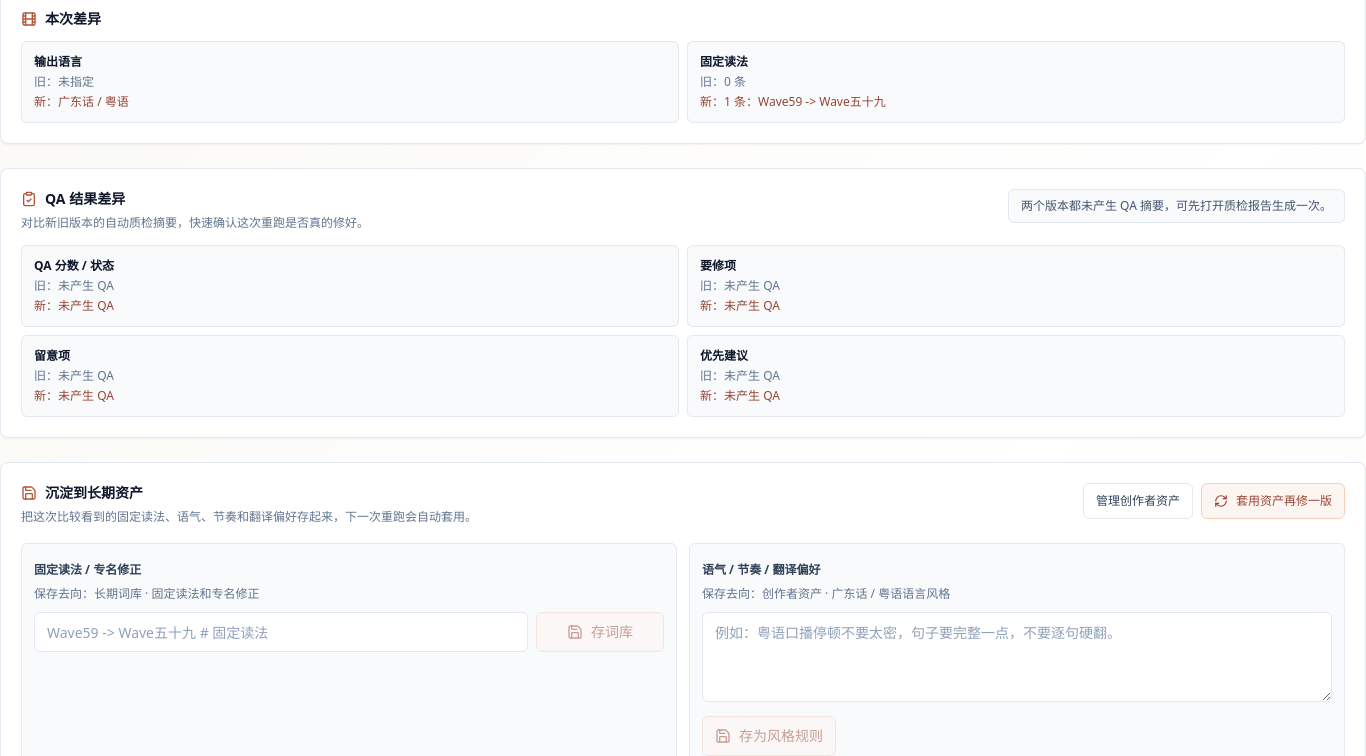
JobCompareClient asset rows › previews and confirms the style note saved from compare
Type "粤语口播停顿拉开一点，不要逐句硬翻。" into the text box labelled "语气 / 节奏 / 翻译偏好".
click(1017, 657); type("粤语口播停顿拉开一点，不要逐句硬翻。")  # box [702, 612, 1332, 702]
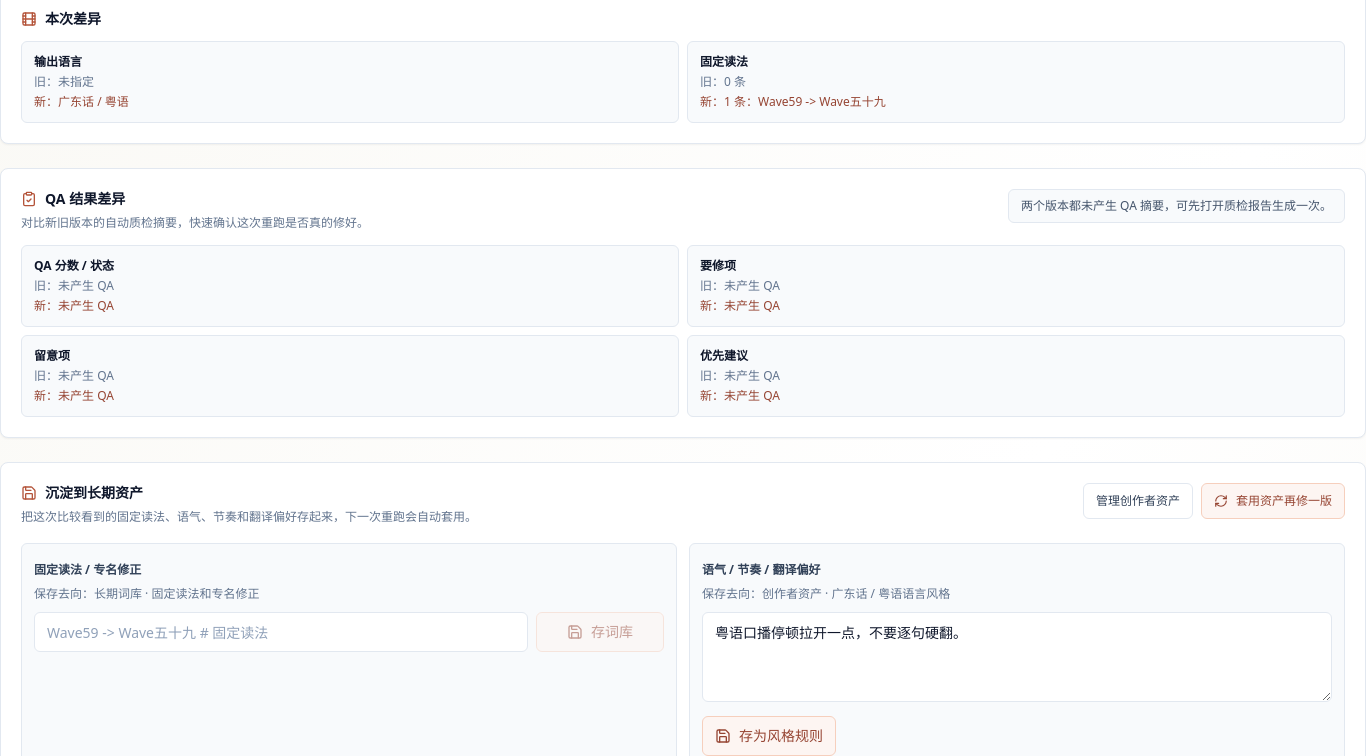
Expected: the text "保存去向：创作者资产 · 广东话 / 粤语语言风格" is shown, [702, 585, 950, 602]
Click the button "存为风格规则".
click(769, 736)  # box [702, 716, 836, 755]
(page scrolled)
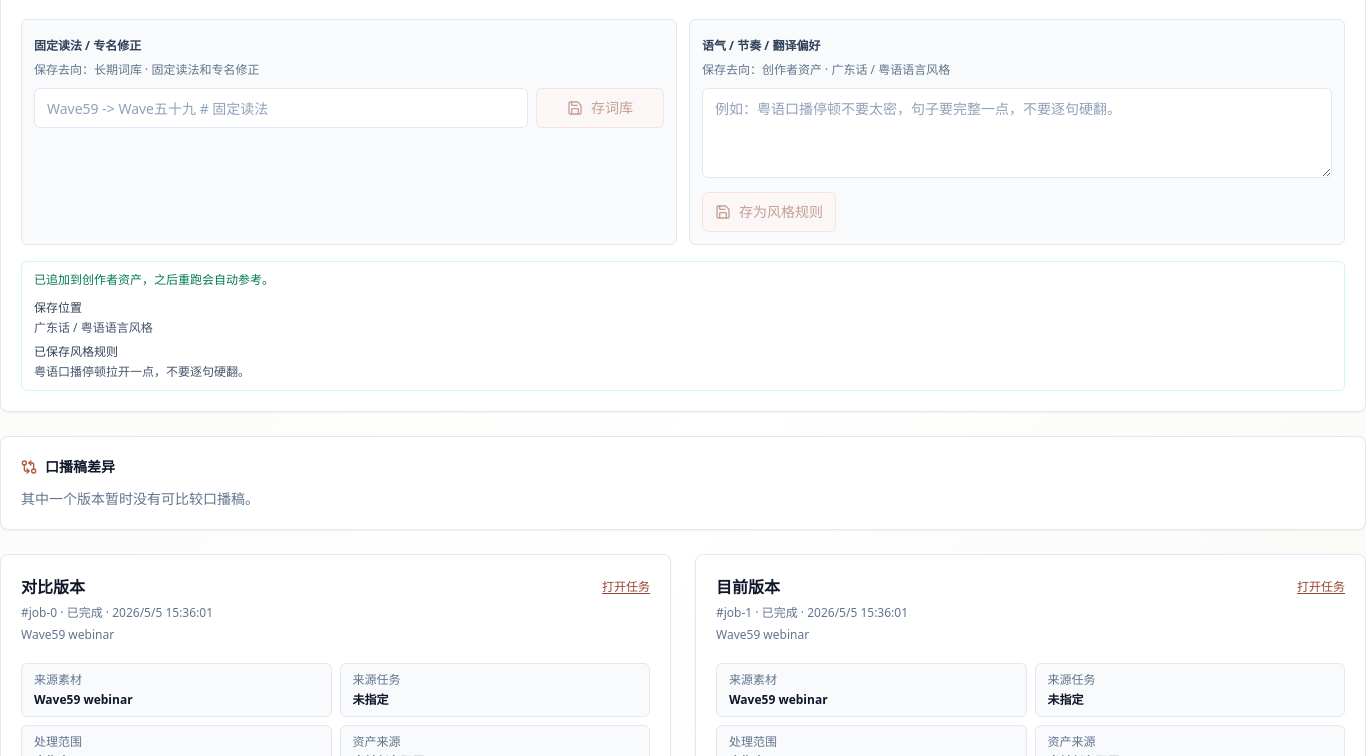
Now the text "已追加到创作者资产，之后重跑会自动参考。" is shown, box [34, 271, 274, 288]
Now the text "保存位置" is shown, box [34, 299, 82, 316]
Now the text "广东话 / 粤语语言风格" is shown, box [34, 319, 153, 336]
